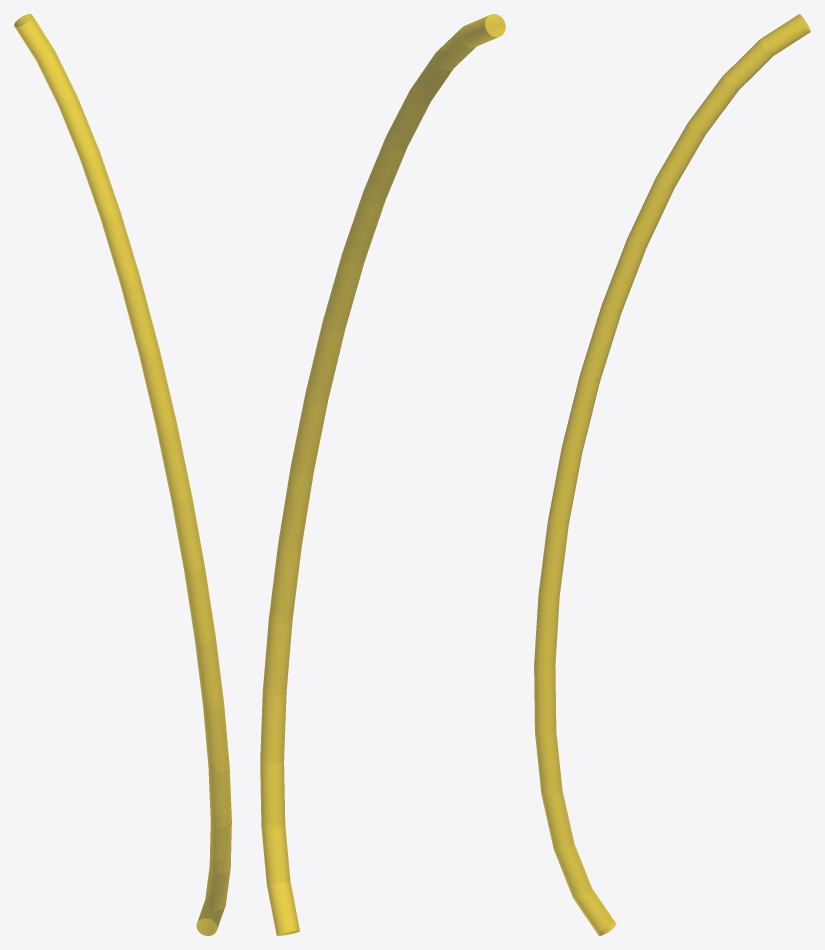
Rendered from Event_17758602_track_169.fbx.
3 renders of one model, left to right at view 1: azimuth 30°, elevation 25°; view 2: azimuth 210°, elevation 25°; view 3: azimuth 270°, elevation 25°, orthographic. The views are drawn at different scales.
Parts seen in each view (by area): view 1: Model; view 2: Model; view 3: Model.
Boxes of the visible parts, left/top/right/bottom form: Model: left=14, top=14, right=231, bottom=935; Model: left=260, top=14, right=505, bottom=935; Model: left=534, top=14, right=810, bottom=935.
Bounding box in the file's own units: 0.2261 × 1.8 × 0.516.
